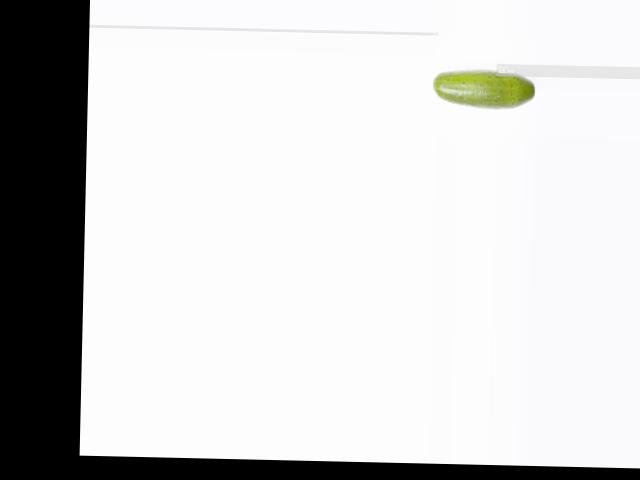cucumber: (432, 68, 537, 110)
